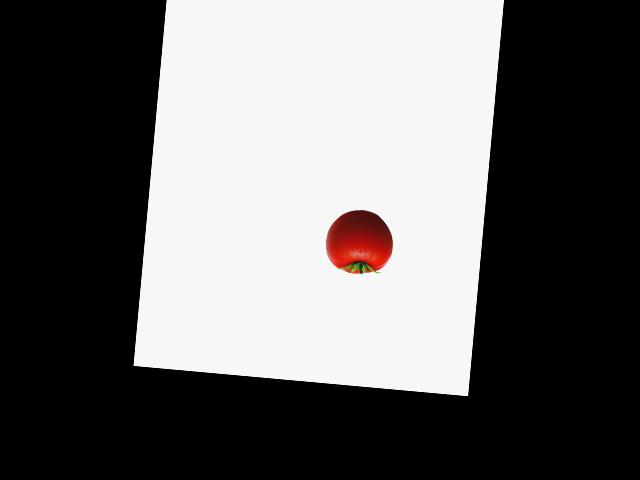tomato: (331, 207, 395, 276)
